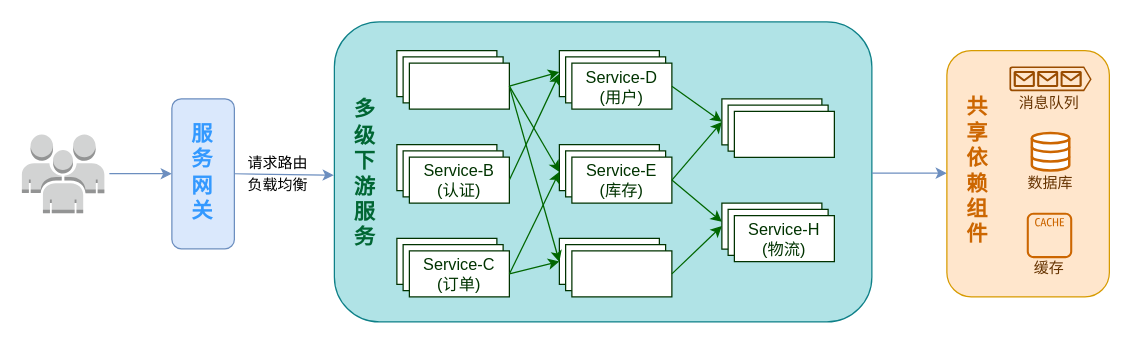
Image size: 1131x344. Some labels were removed from this diagram. Here are the shapes that lost their labels. From the top down, the centre of each, then its label:
At [452,79]: "Service-A （API）".
At [777,127]: "Service-G (购物车)".
At [615,267]: "Service-F (支付)".
